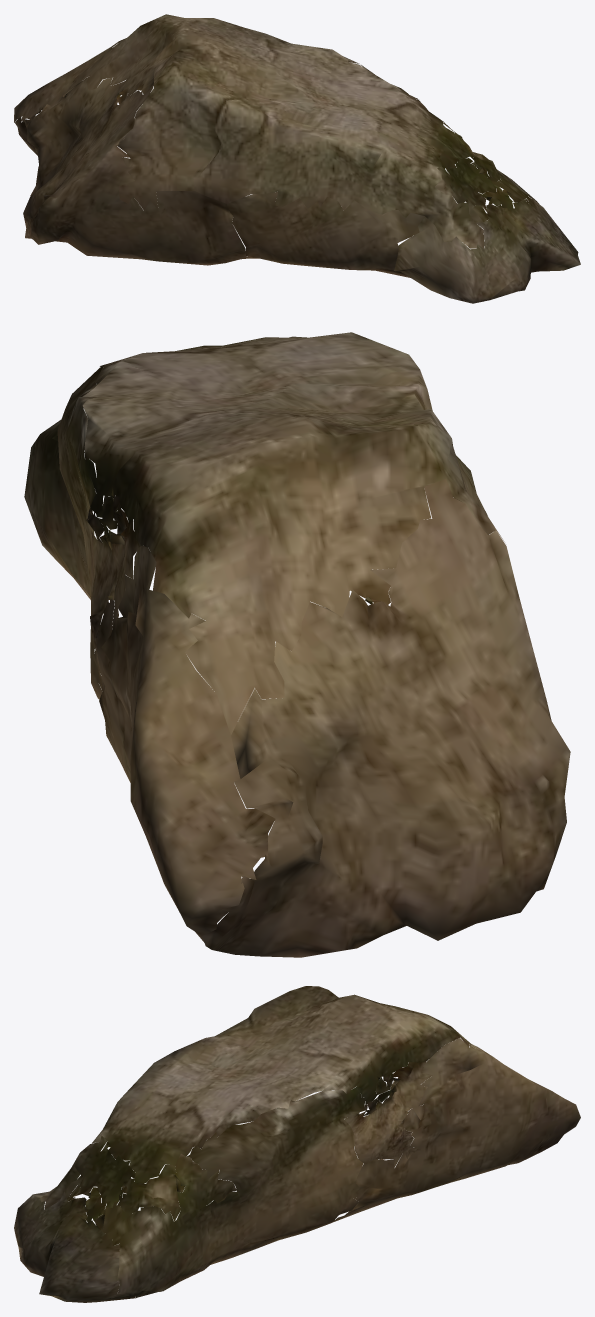
File: rock-moss-set-01-rock02.glb
The picture shows the model from 3 angles, top to bottom: view 1: azimuth 30°, elevation 25°; view 2: azimuth 150°, elevation 25°; view 3: azimuth 270°, elevation 25°; orthographic projection. The views are drawn at different scales.
Visible parts, largest first — view 1: rock_moss_set_01_rock02; view 2: rock_moss_set_01_rock02; view 3: rock_moss_set_01_rock02.
Part boxes in pixels (<box>): rock_moss_set_01_rock02: <box>14,14,580,303</box>; rock_moss_set_01_rock02: <box>24,332,570,957</box>; rock_moss_set_01_rock02: <box>14,986,580,1302</box>.
Size of the model in its own units: 2.65 by 1.26 by 3.27.
Materials: 1 (1 with a texture image).
